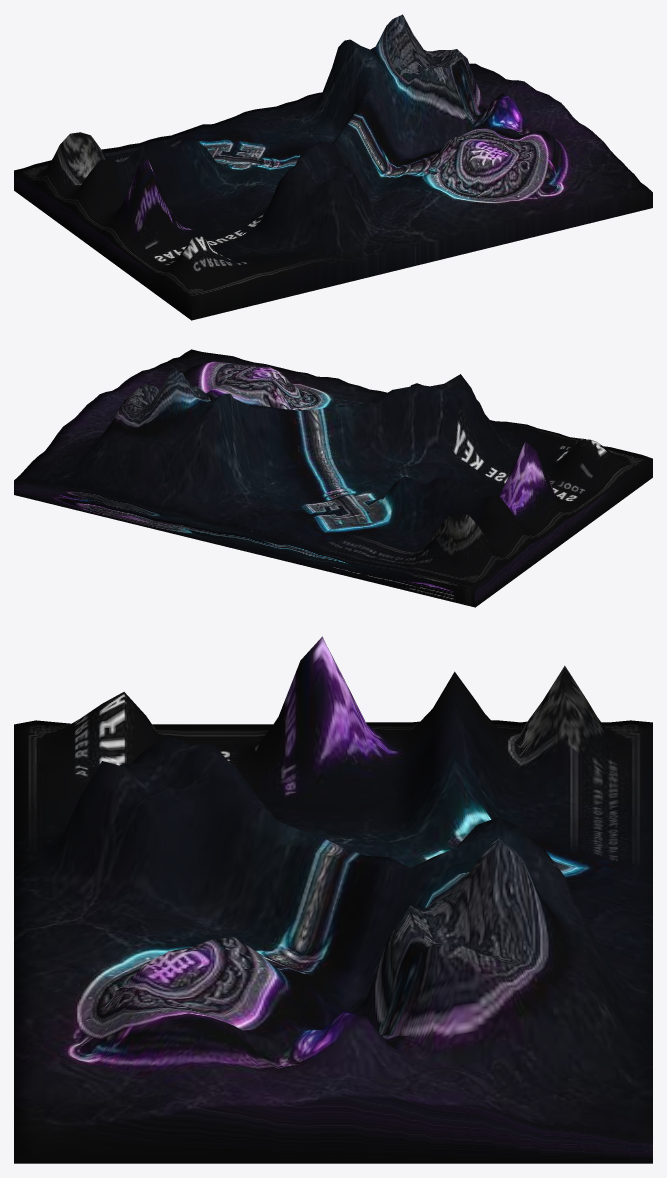
File: CAREER_14_Tool_07_Safe_Key.glb
3 views of the same model, one above another, from view 1: azimuth 30°, elevation 25°; view 2: azimuth 150°, elevation 25°; view 3: azimuth 270°, elevation 25° (orthographic). The views are drawn at different scales.
Visible parts, largest first — view 1: CAREER_14_Tool_07_Safe_Key; view 2: CAREER_14_Tool_07_Safe_Key; view 3: CAREER_14_Tool_07_Safe_Key.
Part boxes in pixels (x1=…): CAREER_14_Tool_07_Safe_Key: x1=14, y1=14, x2=652, y2=320; CAREER_14_Tool_07_Safe_Key: x1=14, y1=349, x2=652, y2=607; CAREER_14_Tool_07_Safe_Key: x1=14, y1=636, x2=652, y2=1163.
Size of the model in its own units: 2 by 0.51 by 1.33.
1 material, 1 textured.
